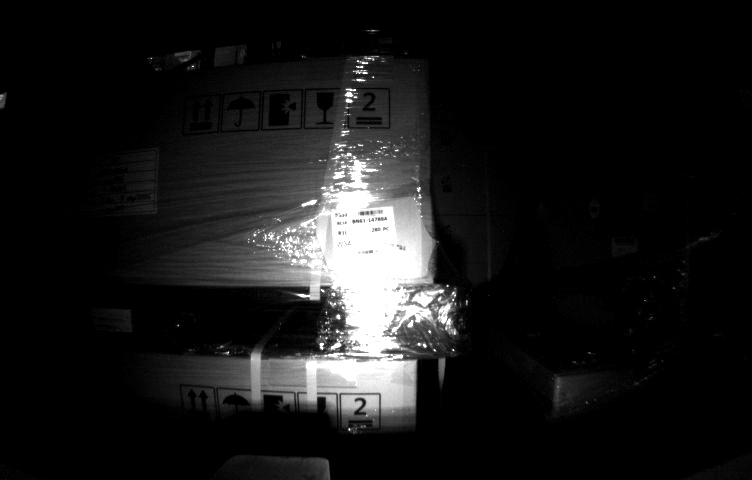True Barcode: (330, 205, 395, 273)
